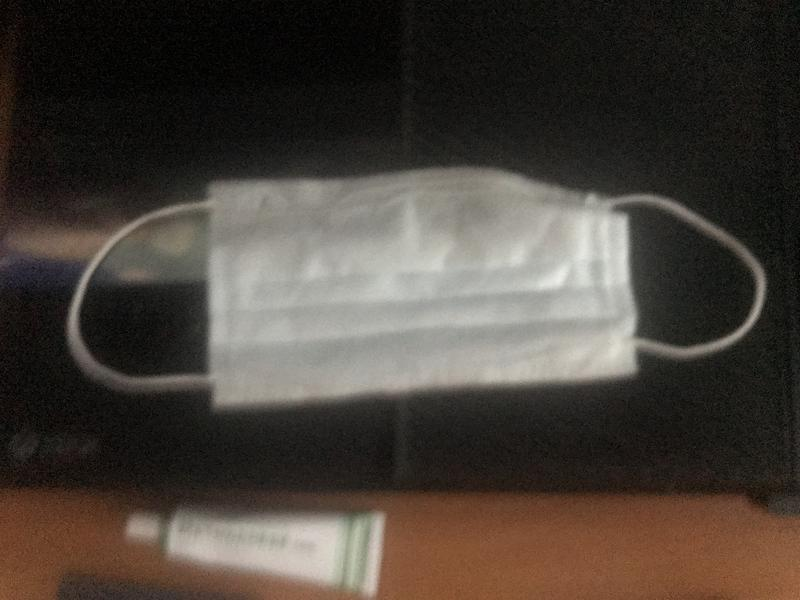medical_mask: (70, 166, 767, 409)
